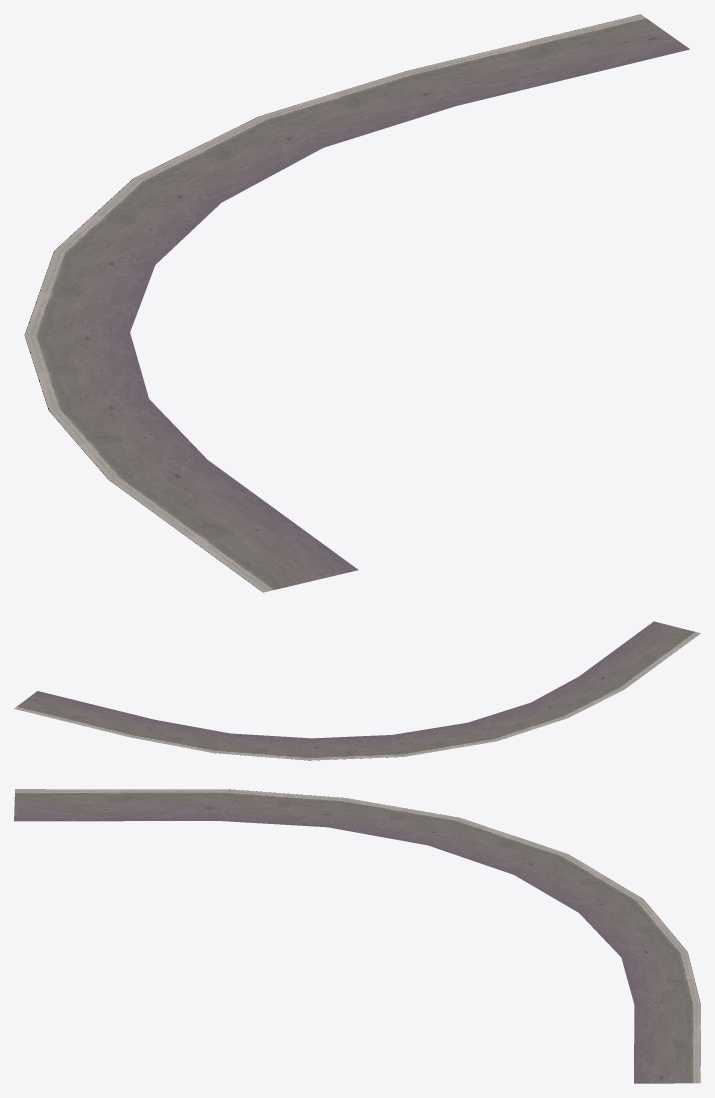
The picture shows the model from 3 angles, top to bottom: view 1: azimuth 30°, elevation 25°; view 2: azimuth 150°, elevation 25°; view 3: azimuth 270°, elevation 25°; orthographic projection. The views are drawn at different scales.
Visible parts, largest first — view 1: Joint_0_Object_0; view 2: Joint_0_Object_0; view 3: Joint_0_Object_0.
Part boxes in pixels (x1,y1,x2,y2): Joint_0_Object_0: (24,14,689,592); Joint_0_Object_0: (14,621,700,760); Joint_0_Object_0: (14,789,700,1083).
Bounding box in the file's own units: 2080 × 0 × 2051.
1 material, 1 textured.
